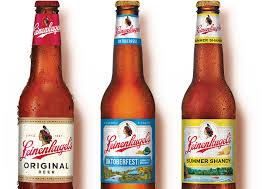Glass bottle: (10, 3, 250, 189)
